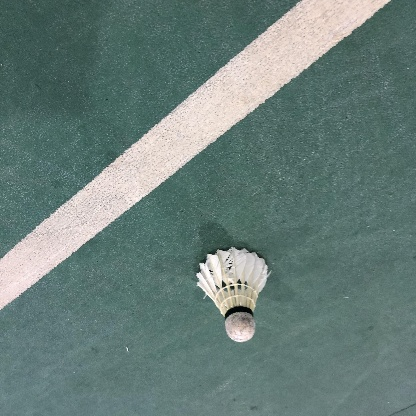ball_single: (196, 247, 268, 342)
